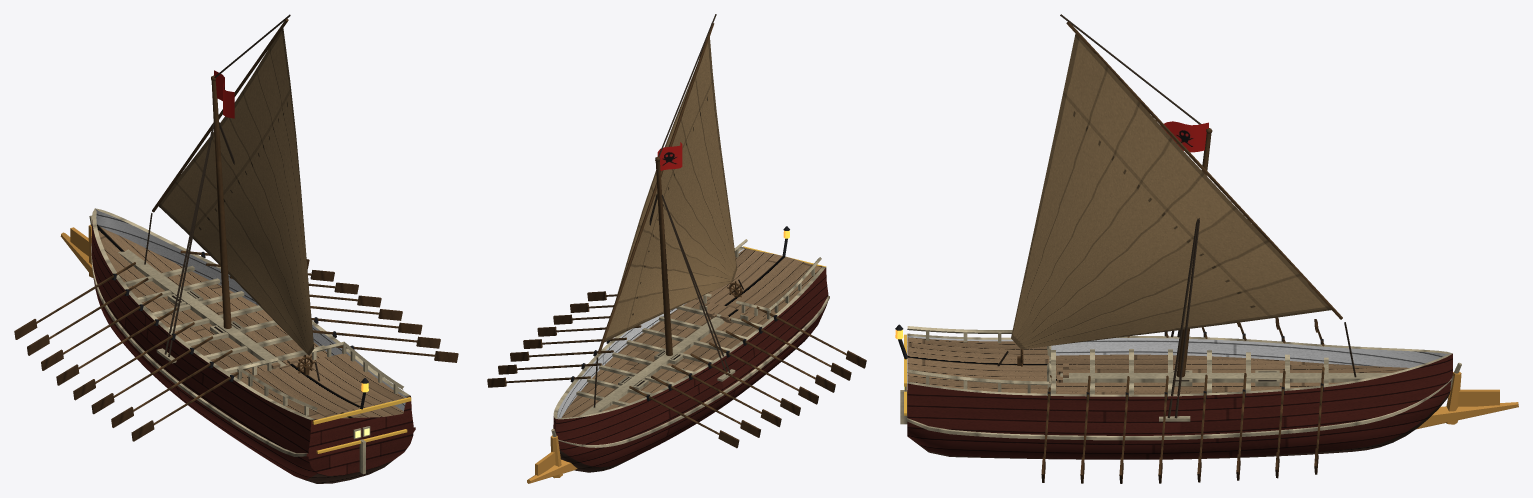
Rendered from brethren_galley.glb.
The picture shows the model from 3 angles, left to right: view 1: azimuth 30°, elevation 25°; view 2: azimuth 150°, elevation 25°; view 3: azimuth 270°, elevation 25°; orthographic projection. The views are drawn at different scales.
Parts seen in each view (by area): view 1: Hull, Sail0_0, OarsL, Rigging, OarsR, Flag; view 2: Hull, Sail0_0, OarsL, Rigging, OarsR, Flag; view 3: Hull, Sail0_0, Rigging, OarsR, Flag.
Part boxes in pixels (x1,y1,x2,y2): Hull: (60,208,415,483); Sail0_0: (158,28,314,355); OarsL: (14,262,252,441); Rigging: (144,14,319,381); OarsR: (180,250,458,362); Flag: (214,70,234,118); Hull: (527,226,829,483); Sail0_0: (604,37,737,342); OarsL: (629,306,866,448); Rigging: (593,14,743,407); OarsR: (487,291,641,387); Flag: (657,142,682,170); Hull: (895,324,1518,459); Sail0_0: (1011,33,1331,349); Rigging: (997,14,1356,418); OarsR: (1041,367,1324,483); Flag: (1161,121,1208,152).
Size of the model in its own units: 1.65 by 2.01 by 2.63.
16 materials, 9 textured.
